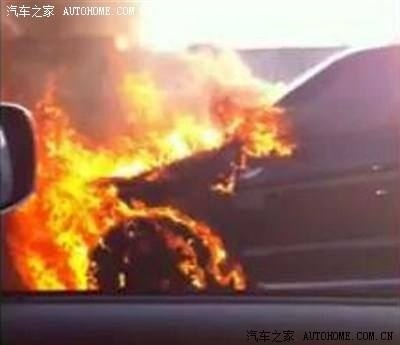fire: (4, 48, 257, 307)
